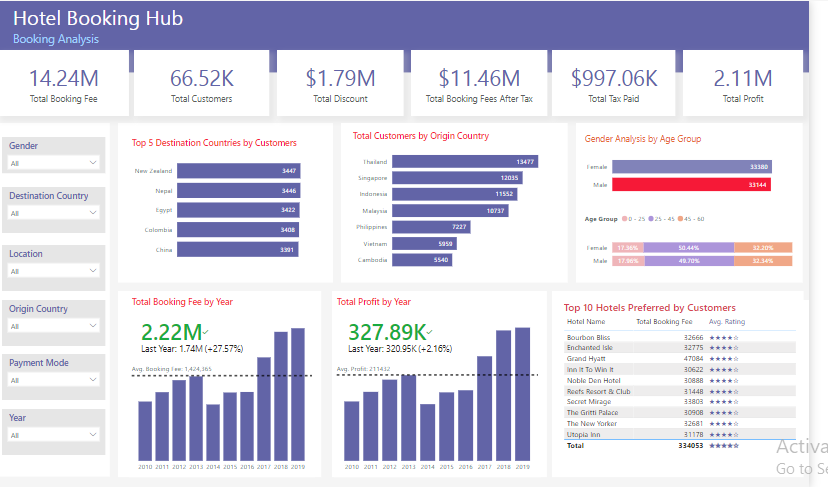

What the dashboard file says about the page in this screenshot:
{"tool":"powerbi","page":{"name":"Page 1","canvas":[1500,900],"ordinal":0},"visuals":[{"type":"shape","box":[0,0,1600,132.3],"z":0},{"type":"shape","box":[0,226.4,206.7,653.5],"z":1000},{"type":"shape","box":[222.4,535.4,376,344.5],"z":2000},{"type":"shape","box":[222.4,226.4,397.6,295.3],"z":3000},{"type":"textbox","box":[22,0,440.8,104.7],"z":4000},{"type":"card","fields":{"Values":["Calculated Meaures.Total Booking Fee"]},"box":[0,90.6,242.1,122],"z":5000},{"type":"card","fields":{"Values":["Calculated Meaures.Total Customers"]},"box":[252,90.6,250,122],"z":6000},{"type":"card","fields":{"Values":["Calculated Meaures.Total Discount"]},"box":[515.7,90.6,234.3,122],"z":7000},{"type":"card","fields":{"Values":["Calculated Meaures.Total Booking Fees After Tax"]},"box":[763.8,90.6,252,122],"z":8000},{"type":"card","fields":{"Values":["Calculated Meaures.Total Tax Paid"]},"box":[1023.6,90.6,228.3,122],"z":9000},{"type":"card","fields":{"Values":["Calculated Meaures.Total Profit"]},"box":[1265.7,90.6,222.4,122],"z":10000},{"type":"shape","box":[633.9,226.4,419.3,295.3],"z":11000},{"type":"shape","box":[1068.9,226.4,419.3,295.3],"z":12000},{"type":"shape","box":[618.1,535.4,397.6,344.5],"z":13000},{"type":"shape","box":[1023.6,535.4,464.6,344.5],"z":14000},{"type":"slicer","fields":{"Values":["Order Database.Gender"]},"box":[7.9,252,190.9,66.9],"z":15000},{"type":"slicer","fields":{"Values":["Order Database.Destination Country"]},"box":[7.9,344.5,190.9,84.6],"z":16000},{"type":"slicer","fields":{"Values":["Order Database.Location"]},"box":[7.9,450.8,190.9,84.6],"z":17000},{"type":"slicer","fields":{"Values":["Order Database.Origin Country"]},"box":[7.9,553.1,190.9,84.6],"z":18000},{"type":"slicer","fields":{"Values":["Order Database.Payment Mode"]},"box":[7.9,651.6,190.9,84.6],"z":19000},{"type":"slicer","fields":{"Values":["DateTable.Date.Variation.Date Hierarchy.Year"]},"box":[7.9,753.9,190.9,84.6],"z":20000},{"type":"clusteredBarChart","title":"Top 5 Destination Countries  by Customers","fields":{"Y":["Calculated Meaures.Total Customers"],"Category":["Order Database.Destination Country"]},"box":[242.1,252,356.3,242.1],"z":21000},{"type":"clusteredBarChart","fields":{"Y":["Calculated Meaures.Total Customers"],"Category":["Order Database.Origin Country"]},"box":[649.6,238.2,389.8,269.7],"z":22000},{"type":"clusteredColumnChart","fields":{"Y":["Calculated Meaures.Total Booking Fee"],"Category":["DateTable.Date.Variation.Date Hierarchy.Year"]},"box":[242.1,545.3,342.5,334.6],"z":23000},{"type":"clusteredColumnChart","fields":{"Y":["Calculated Meaures.Total Profit"],"Category":["DateTable.Date.Variation.Date Hierarchy.Year"]},"box":[620.1,545.3,381.9,334.6],"z":24000},{"type":"barChart","fields":{"Y":["Calculated Meaures.Total Customers"],"Category":["Order Database.Gender"]},"box":[1078.7,252,393.7,135.8],"z":25000},{"type":"hundredPercentStackedBarChart","fields":{"Category":["Order Database.Gender"],"Y":["Calculated Meaures.Total Profit"],"Series":["Order Database.Age Group"]},"box":[1078.7,381.9,393.7,135.8],"z":26000},{"type":"textbox","box":[1078.7,238.2,299.2,47.2],"z":27000},{"type":"tableEx","title":"Top 10 Hotels Preferred  by Customers","fields":{"Values":["Order Database.Hotel Name","Calculated Meaures.Total Booking Fee","Calculated Meaures.Avg. Rating star rating"]},"box":[1039.9,553,460.1,313.6],"z":28000},{"type":"kpi","fields":{"Indicator":["Calculated Meaures.Total Booking Fee"],"TrendLine":["DateTable.Date.Variation.Date Hierarchy.Year"],"Goal":["Calculated Meaures.Total Booking Fee LY"]},"box":[252,572.8,250,96.5],"z":29000},{"type":"kpi","fields":{"TrendLine":["DateTable.Date.Variation.Date Hierarchy.Year"],"Goal":["Calculated Meaures.Profit LY"],"Indicator":["Calculated Meaures.Total Profit"]},"box":[633.9,572.8,250,96.5],"z":30000}]}

Visuals, with their boxes on the page's 1500x900 design canvas (x1, y1, x2, y2). These are canvas units, not pixel positions in the 828x487 screenshot, which may show the page scaled, cropped or inside an application window:
shape: (left=0, top=0, right=1600, bottom=132)
shape: (left=0, top=226, right=207, bottom=880)
shape: (left=222, top=535, right=598, bottom=880)
shape: (left=222, top=226, right=620, bottom=522)
textbox: (left=22, top=0, right=463, bottom=105)
card - Calculated Meaures.Total Booking Fee: (left=0, top=91, right=242, bottom=213)
card - Calculated Meaures.Total Customers: (left=252, top=91, right=502, bottom=213)
card - Calculated Meaures.Total Discount: (left=516, top=91, right=750, bottom=213)
card - Calculated Meaures.Total Booking Fees After Tax: (left=764, top=91, right=1016, bottom=213)
card - Calculated Meaures.Total Tax Paid: (left=1024, top=91, right=1252, bottom=213)
card - Calculated Meaures.Total Profit: (left=1266, top=91, right=1488, bottom=213)
shape: (left=634, top=226, right=1053, bottom=522)
shape: (left=1069, top=226, right=1488, bottom=522)
shape: (left=618, top=535, right=1016, bottom=880)
shape: (left=1024, top=535, right=1488, bottom=880)
slicer - Order Database.Gender: (left=8, top=252, right=199, bottom=319)
slicer - Order Database.Destination Country: (left=8, top=344, right=199, bottom=429)
slicer - Order Database.Location: (left=8, top=451, right=199, bottom=535)
slicer - Order Database.Origin Country: (left=8, top=553, right=199, bottom=638)
slicer - Order Database.Payment Mode: (left=8, top=652, right=199, bottom=736)
slicer - DateTable.Date.Variation.Date Hierarchy.Year: (left=8, top=754, right=199, bottom=838)
"Top 5 Destination Countries  by Customers" clusteredBarChart: (left=242, top=252, right=598, bottom=494)
clusteredBarChart - Calculated Meaures.Total Customers x Order Database.Origin Country: (left=650, top=238, right=1039, bottom=508)
clusteredColumnChart - Calculated Meaures.Total Booking Fee x DateTable.Date.Variation.Date Hierarchy.Year: (left=242, top=545, right=585, bottom=880)
clusteredColumnChart - Calculated Meaures.Total Profit x DateTable.Date.Variation.Date Hierarchy.Year: (left=620, top=545, right=1002, bottom=880)
barChart - Calculated Meaures.Total Customers x Order Database.Gender: (left=1079, top=252, right=1472, bottom=388)
hundredPercentStackedBarChart - Order Database.Gender x Calculated Meaures.Total Profit: (left=1079, top=382, right=1472, bottom=518)
textbox: (left=1079, top=238, right=1378, bottom=285)
"Top 10 Hotels Preferred  by Customers" tableEx: (left=1040, top=553, right=1500, bottom=867)
kpi - Calculated Meaures.Total Booking Fee x DateTable.Date.Variation.Date Hierarchy.Year: (left=252, top=573, right=502, bottom=669)
kpi - DateTable.Date.Variation.Date Hierarchy.Year x Calculated Meaures.Profit LY: (left=634, top=573, right=884, bottom=669)
